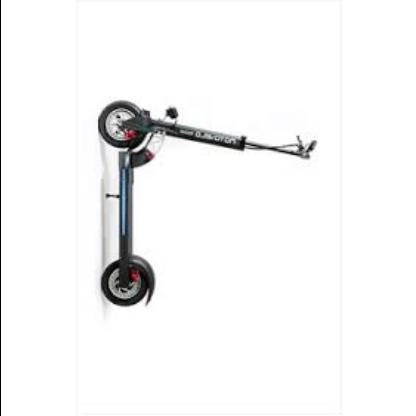bike: (98, 100, 318, 308)
